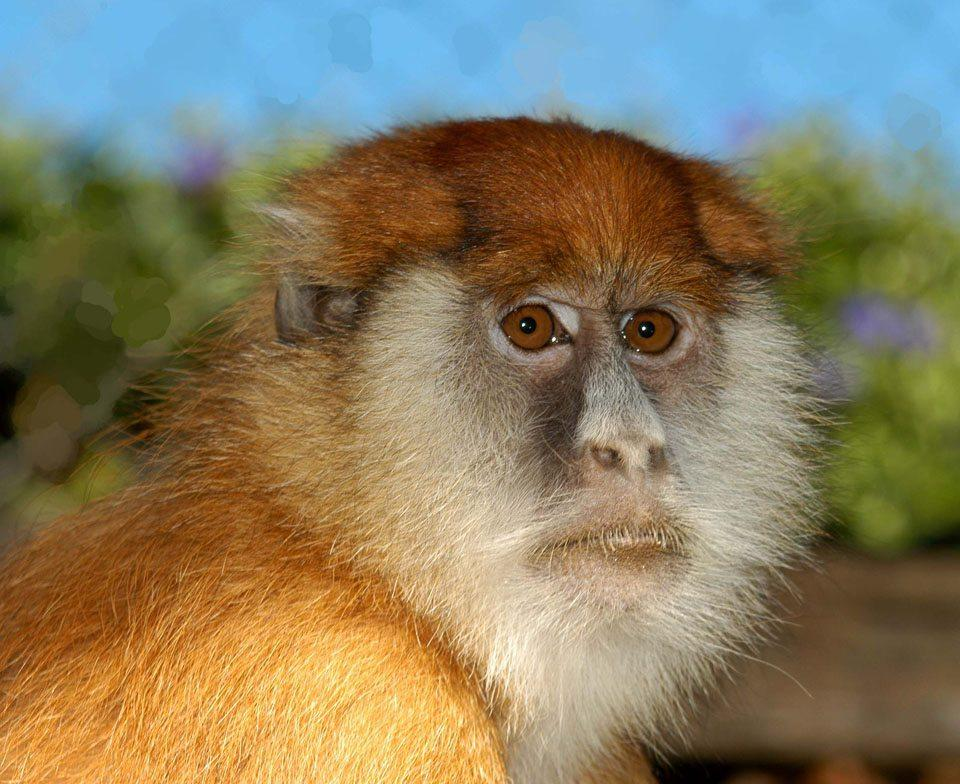monkey: (206, 117, 822, 784)
